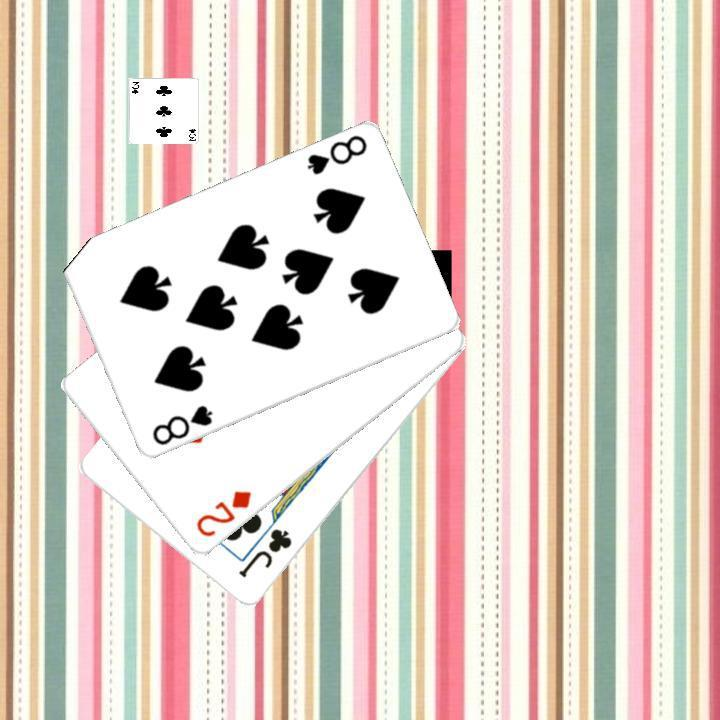2: (191, 486, 254, 540)
8: (147, 401, 215, 448), (302, 131, 369, 178)
J: (234, 524, 294, 581)
